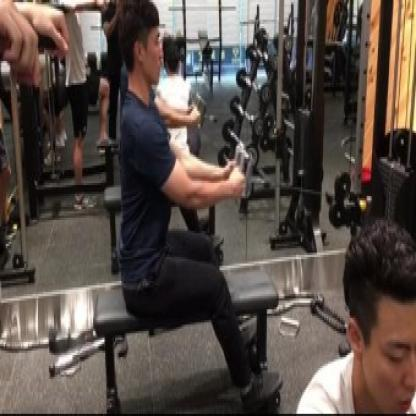Seated Cable Rows: (57, 0, 416, 402)
